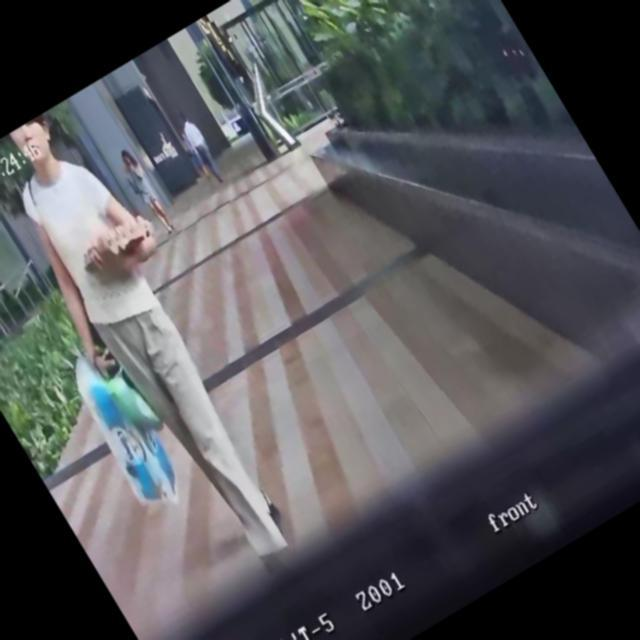person: (0, 94, 332, 587), (114, 147, 182, 242), (174, 110, 230, 188), (175, 128, 213, 183)
